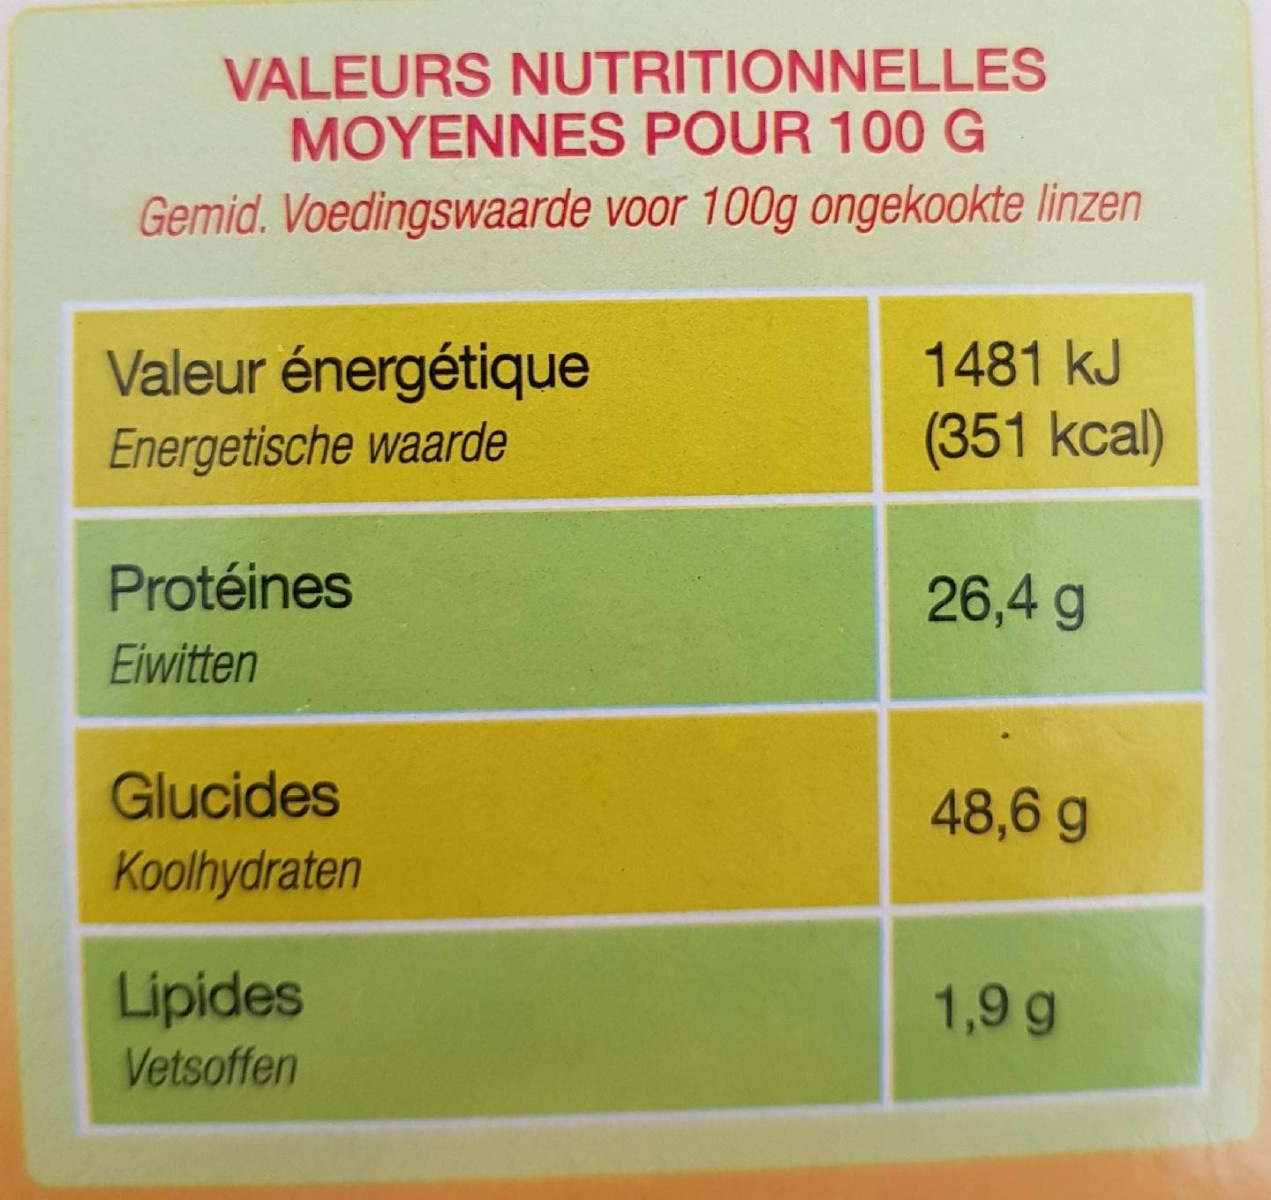column: (94, 337, 590, 1103), (919, 334, 1170, 1097)
table: (68, 288, 1207, 1119)
